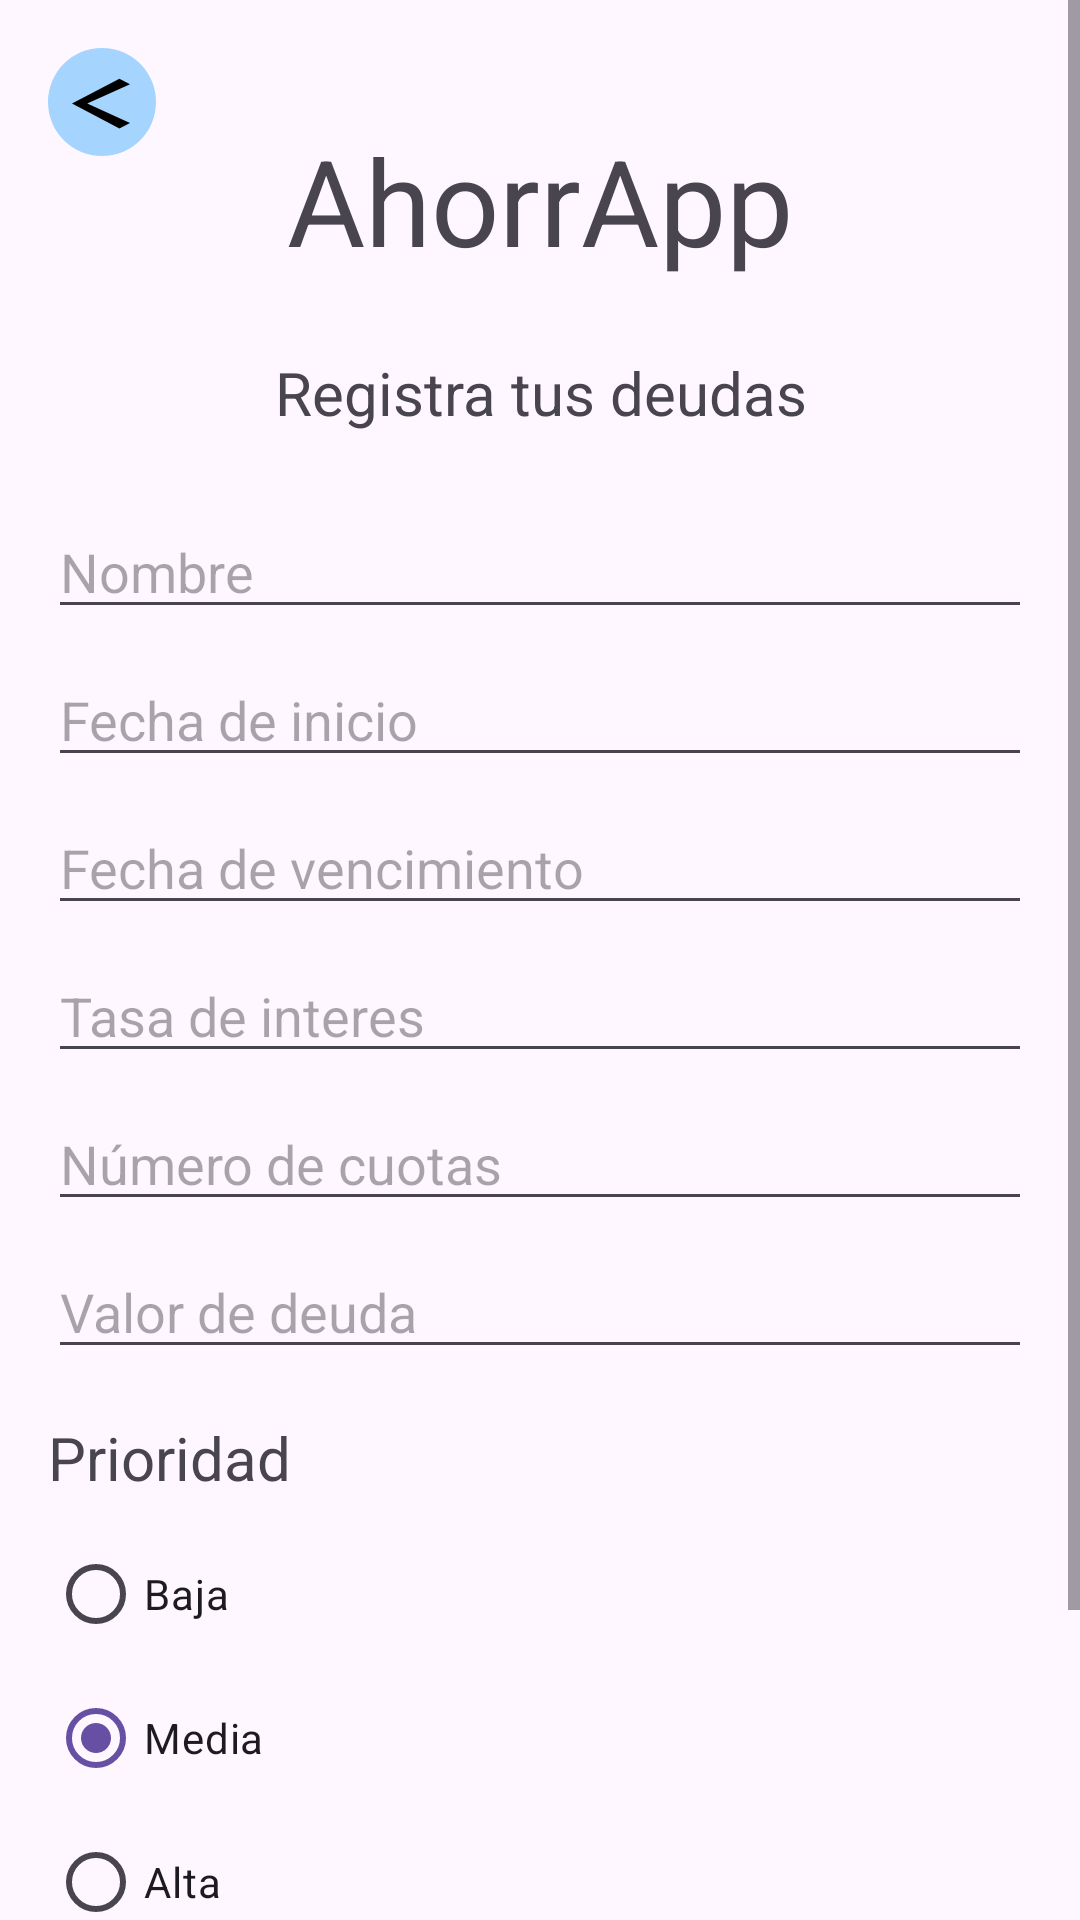

Icon bounding boxes for this 1080px×1920px phone screenshot, format (x1, y1, x2, y2):
arrow back: (48, 48, 156, 156)
